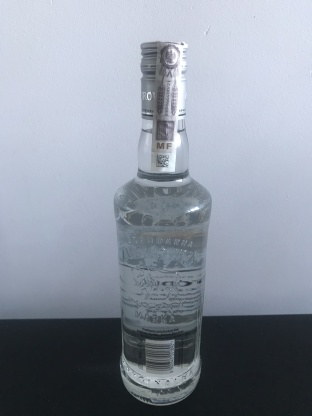nakretka: (137, 37, 189, 121)
